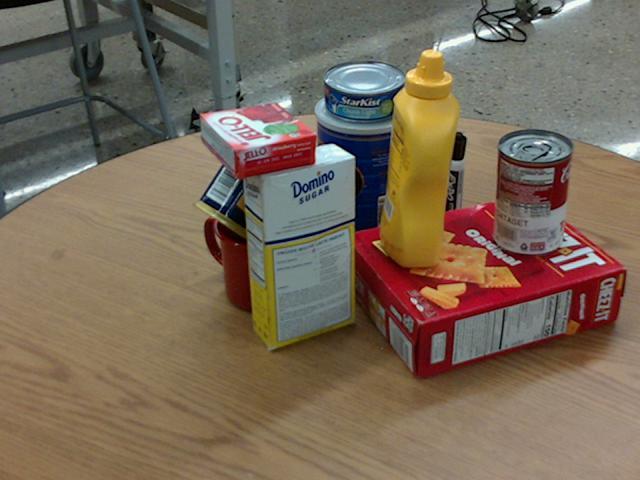cracker_box: (346, 192, 623, 379)
gelatin_box: (199, 100, 316, 178)
large_marker: (442, 133, 465, 237)
master_chef_can: (317, 87, 414, 244)
mug: (203, 197, 306, 310)
mustard_bottle: (380, 49, 459, 267)
potted_meat_can: (193, 131, 321, 258)
sugar_box: (240, 143, 354, 348)
tomato_soup_can: (493, 128, 573, 255)
tuna_fish_can: (323, 60, 406, 120)
